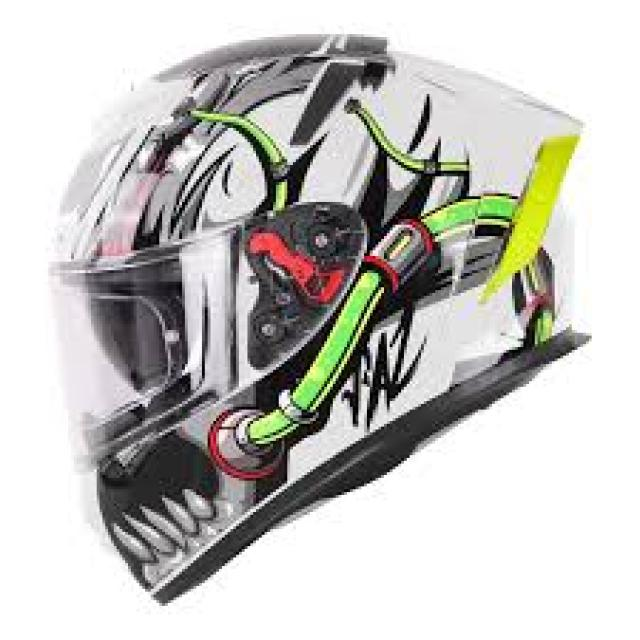Helmet: (29, 26, 633, 621)
